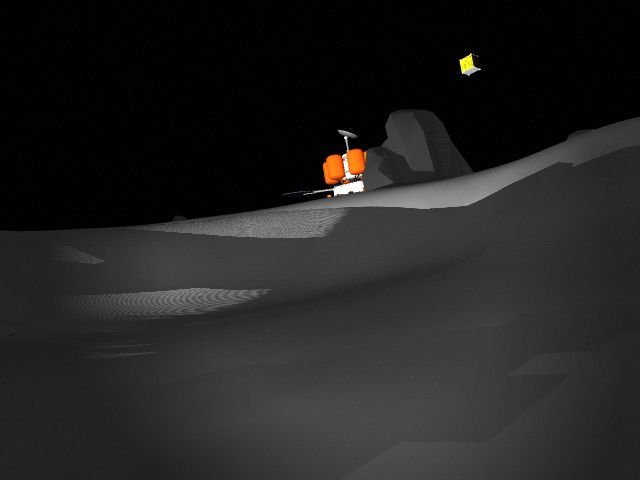cubesat: (453, 47, 490, 80)
